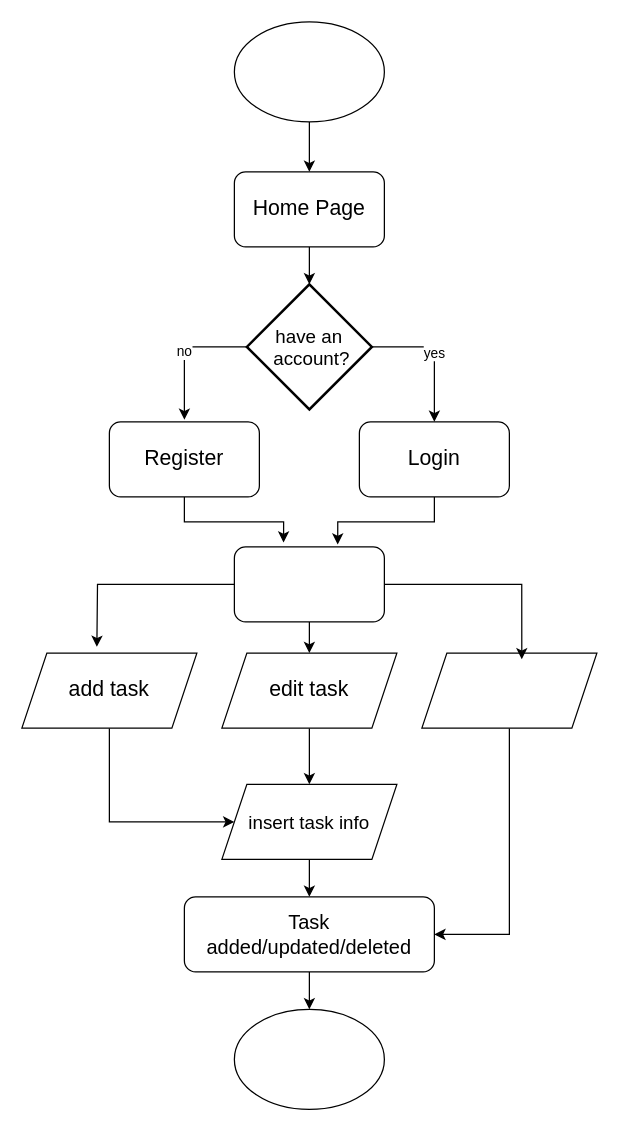
This 619x1131 diagram has some shape labels left out. Here are the shapes that lost their labels. From the top down, the centre of each, then its label:
At [308,71]: "Start".
At [308,584]: "Dashboard".
At [509,690]: "delete task".
At [308,1058]: "End".
